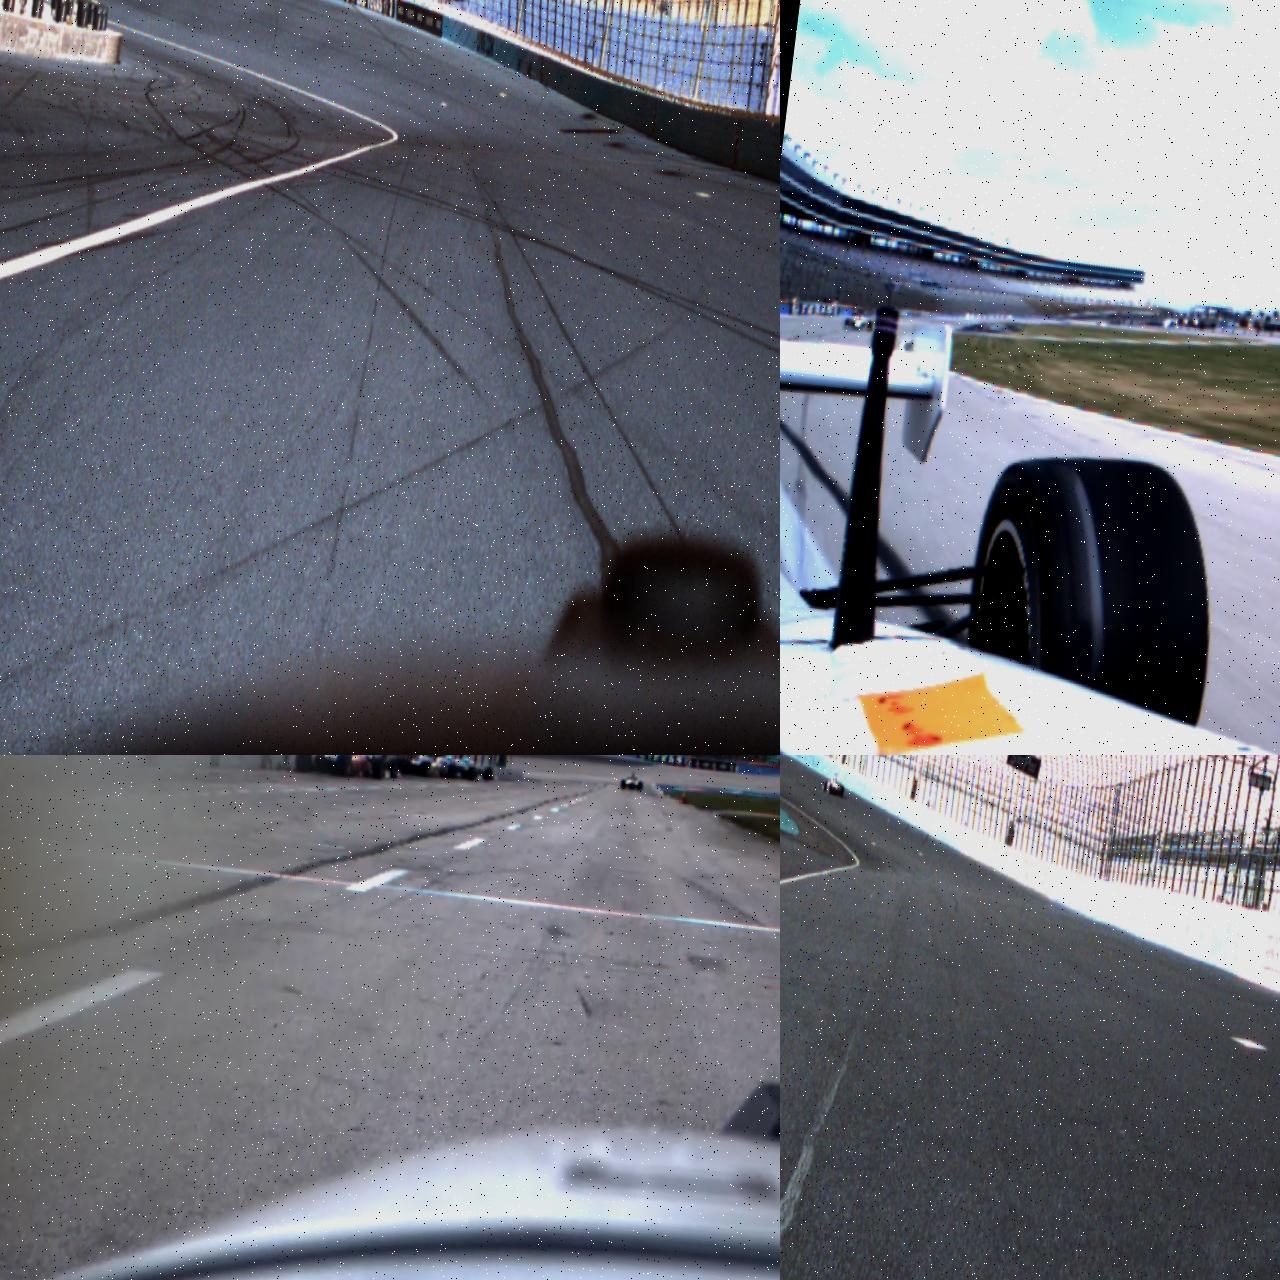AV: (844, 310, 874, 333), (821, 771, 846, 797), (620, 770, 644, 791)
Wheel: (958, 442, 1230, 728), (335, 755, 353, 777), (372, 759, 386, 780), (295, 755, 312, 772), (387, 759, 399, 779), (467, 766, 478, 782), (482, 767, 493, 782), (446, 765, 456, 779), (620, 780, 626, 788), (824, 780, 828, 791), (840, 786, 844, 796), (829, 784, 833, 794), (638, 781, 642, 790)
